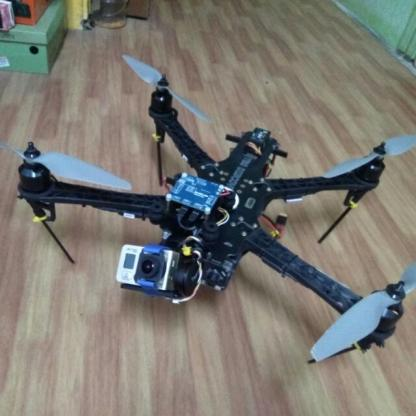drone: (7, 60, 416, 368)
